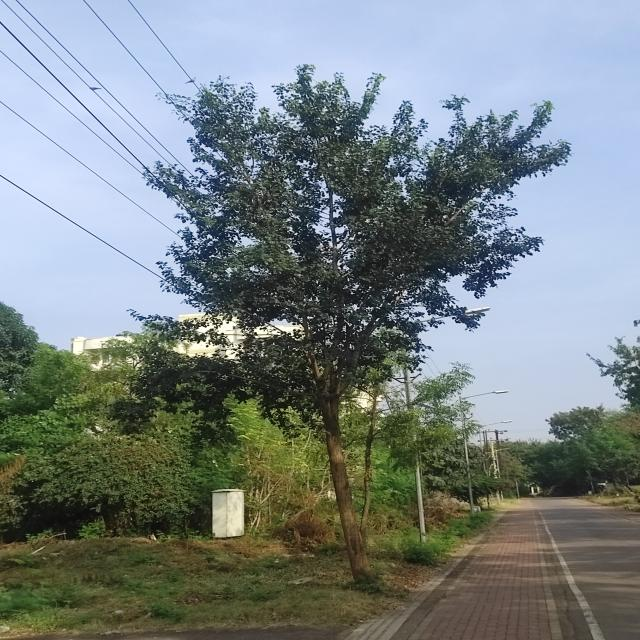Devakanchan tree: (136, 55, 532, 564)
